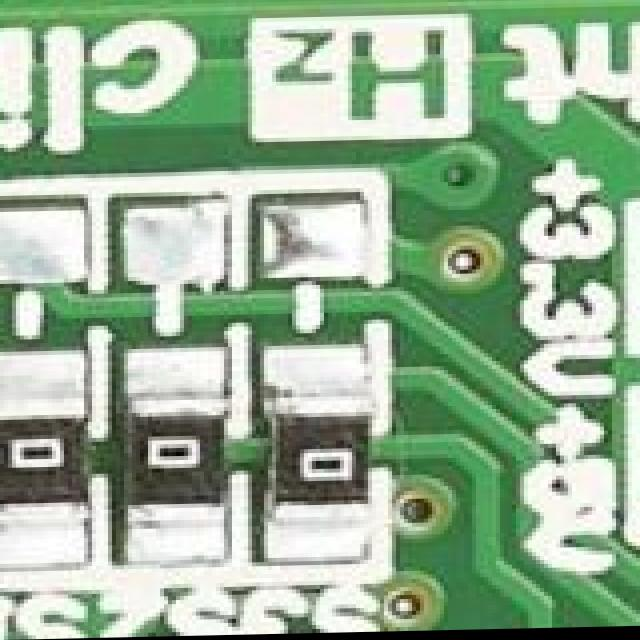resistor: (262, 367, 384, 531), (0, 398, 104, 532), (138, 390, 236, 526)
